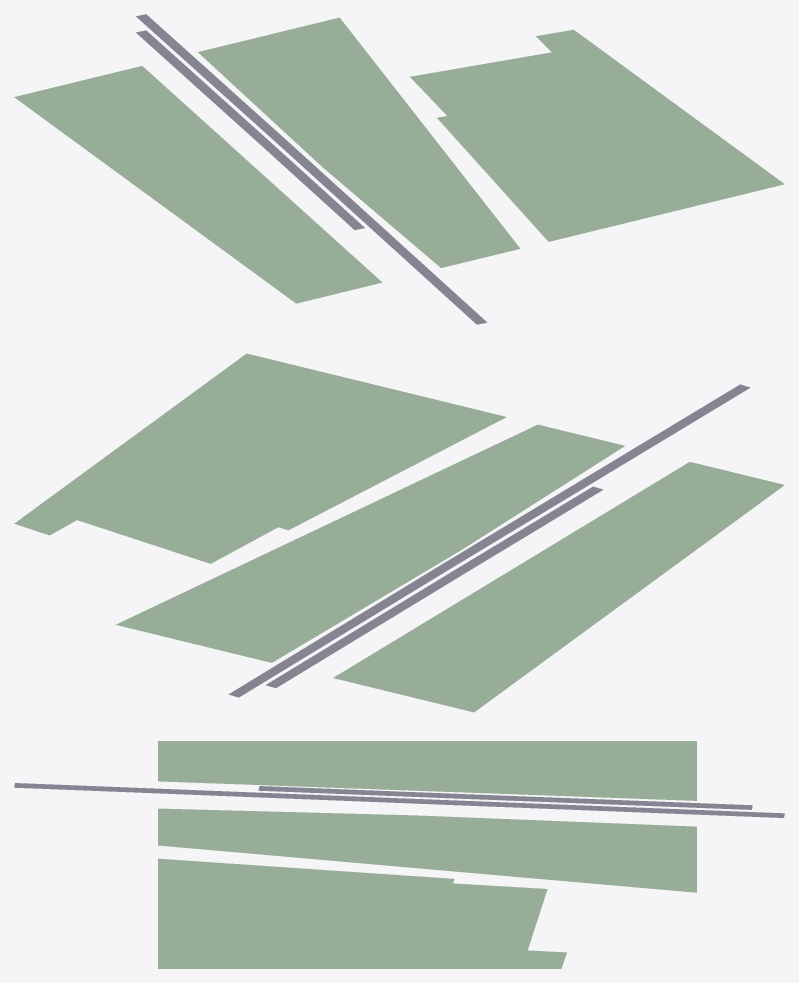
The model's file is 94_106_mid.glb.
The picture shows the model from 3 angles, top to bottom: view 1: azimuth 30°, elevation 25°; view 2: azimuth 150°, elevation 25°; view 3: azimuth 270°, elevation 25°; orthographic projection. The views are drawn at different scales.
Bounding box in the file's own units: 500 × 7.68 × 715.
